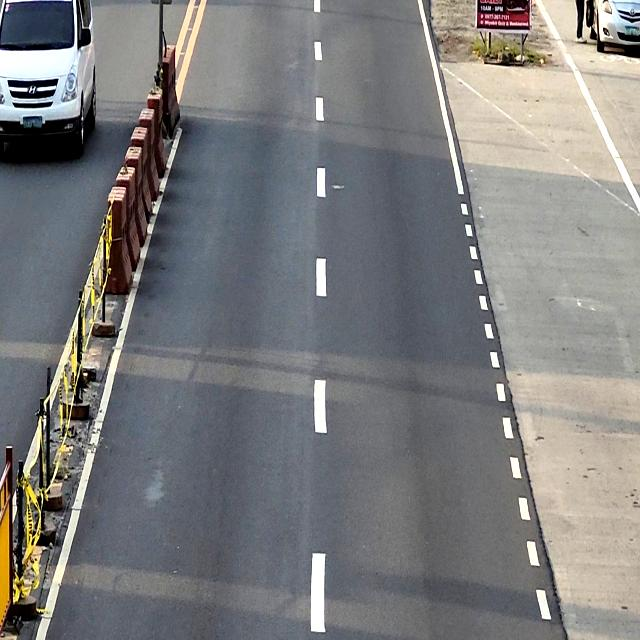Car: (0, 0, 97, 161), (591, 0, 640, 54)
License-Plate: (22, 116, 42, 130), (624, 26, 640, 36)
